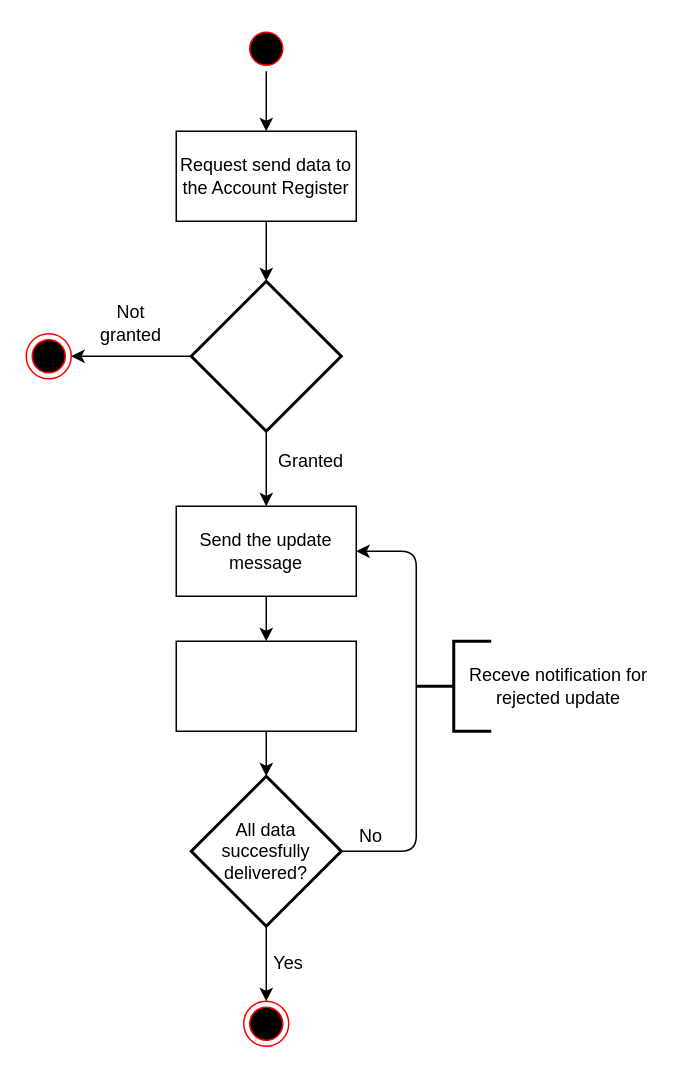
The diagram is 683 pixels wide and 1073 high, and some of its shapes have lost their labels. The centre of each missing label's shape, as x and y in pixels:
"Permission granted?" goes at (265,355).
"Receive update response" goes at (265,685).
